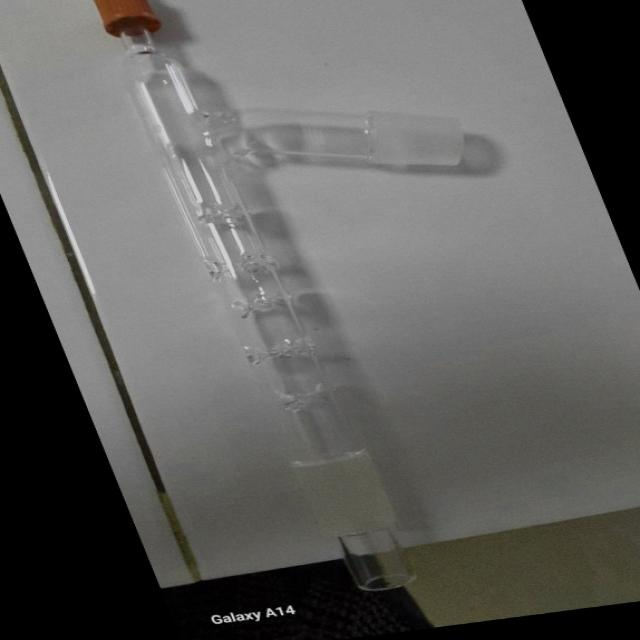Atmospherical Fractional Distillation: (50, 0, 640, 601)
